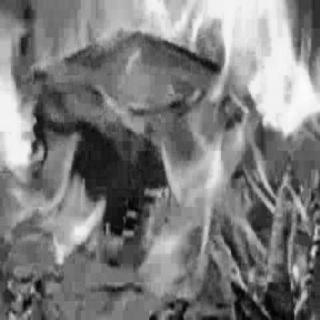Fire: (2, 5, 320, 291)
